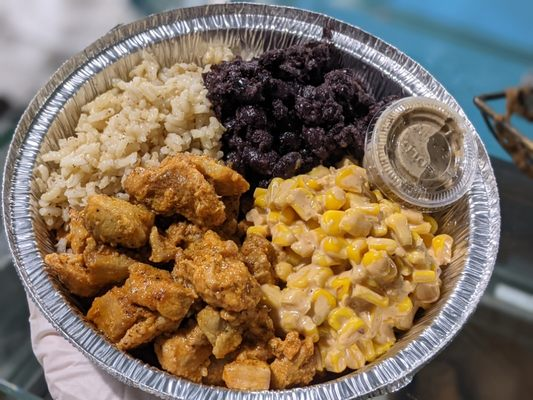sushi: (4, 1, 517, 399)
